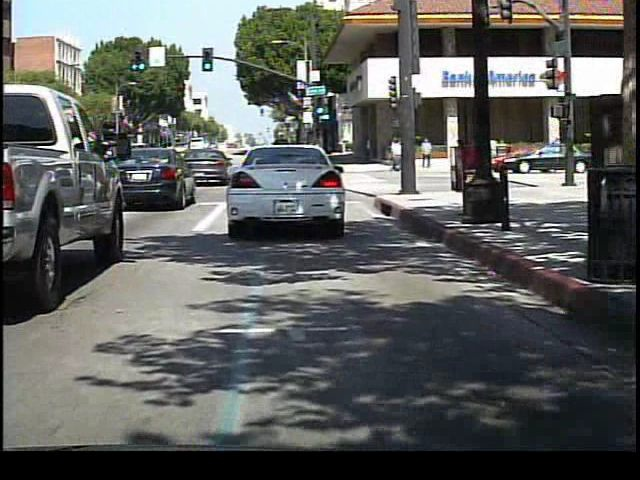person: (483, 135, 503, 171), (418, 136, 435, 169), (389, 138, 401, 175)
